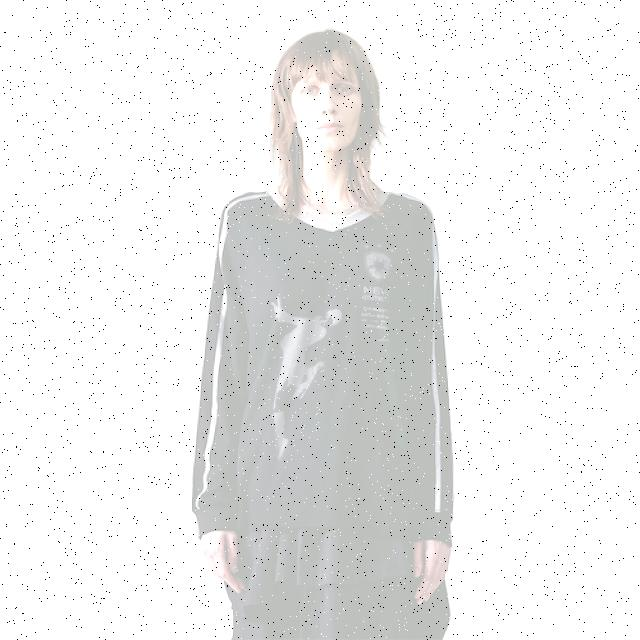dress: (185, 162, 471, 554)
